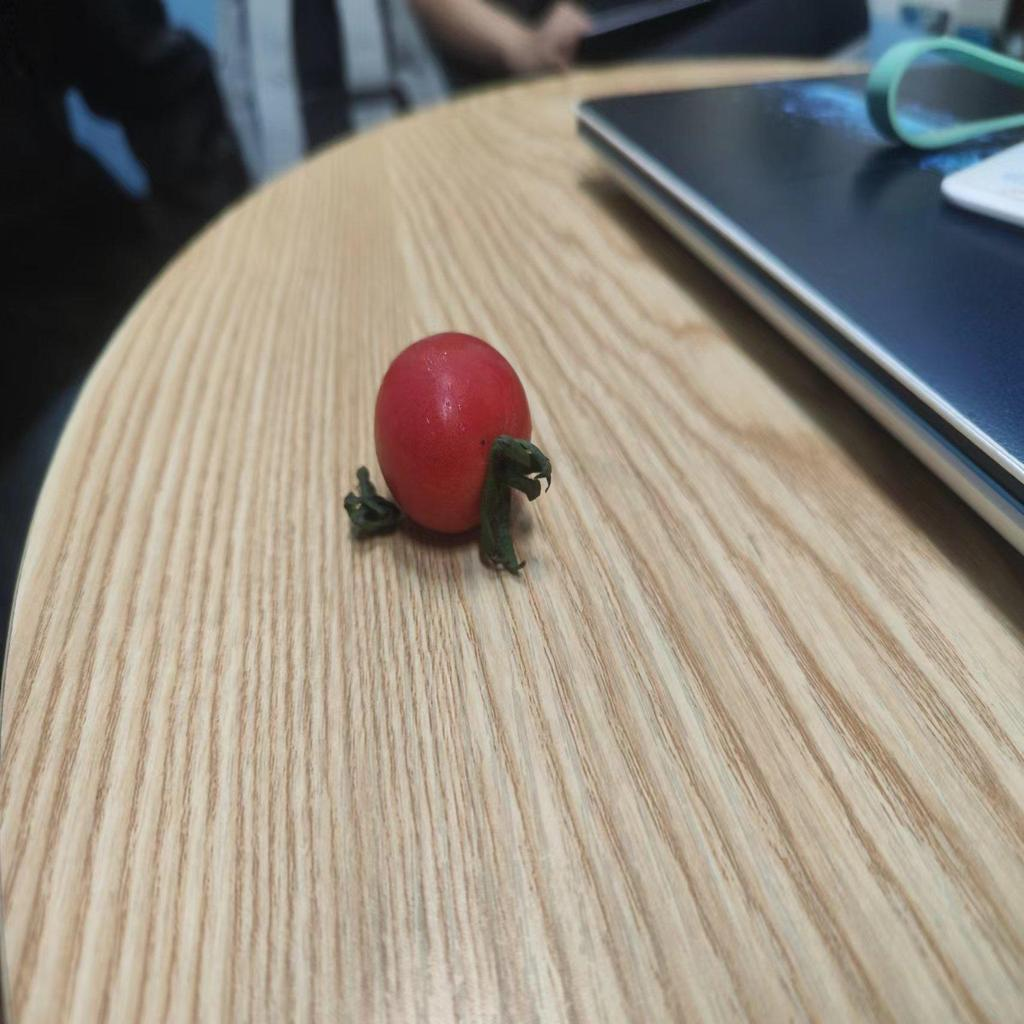tomato: (370, 333, 550, 552)
